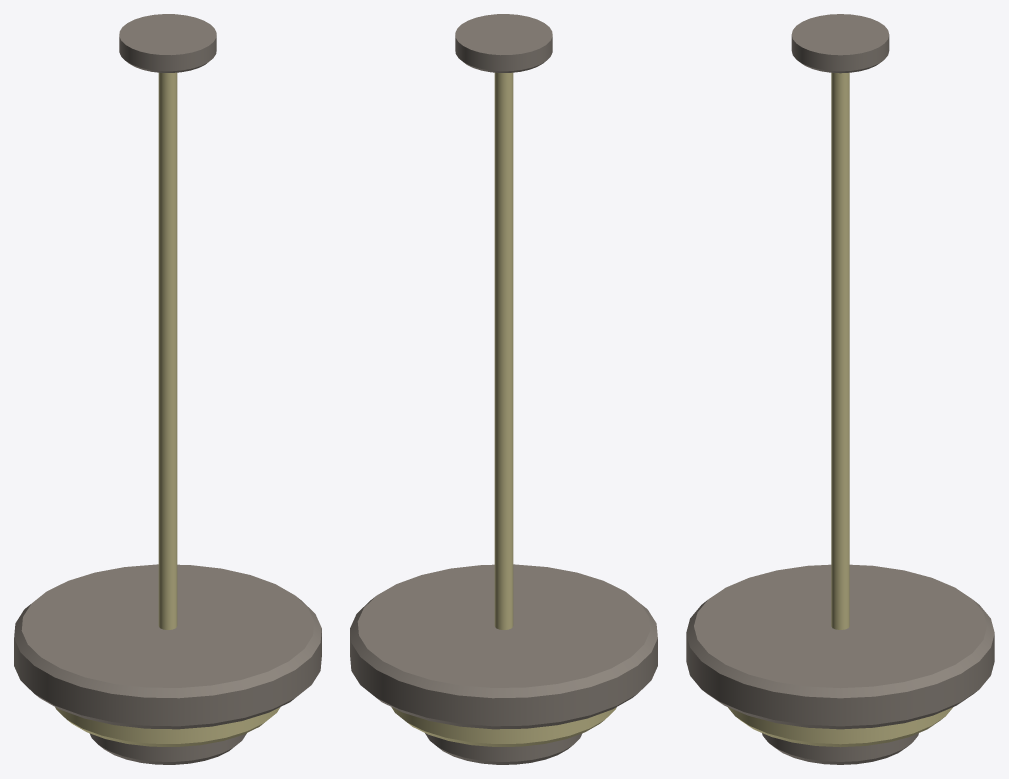
Rendered from lampRoundCeiling.fbx.
The picture shows the model from 3 angles, left to right: view 1: azimuth 30°, elevation 25°; view 2: azimuth 150°, elevation 25°; view 3: azimuth 270°, elevation 25°; orthographic projection.
Parts seen in each view (by area): view 1: lampRoundCeiling; view 2: lampRoundCeiling; view 3: lampRoundCeiling.
Boxes of the visible parts, left/top/right/bottom form: lampRoundCeiling: left=14, top=14, right=321, bottom=764; lampRoundCeiling: left=350, top=14, right=657, bottom=764; lampRoundCeiling: left=686, top=14, right=994, bottom=764.
Bounding box in the file's own units: 40 × 100 × 40.
